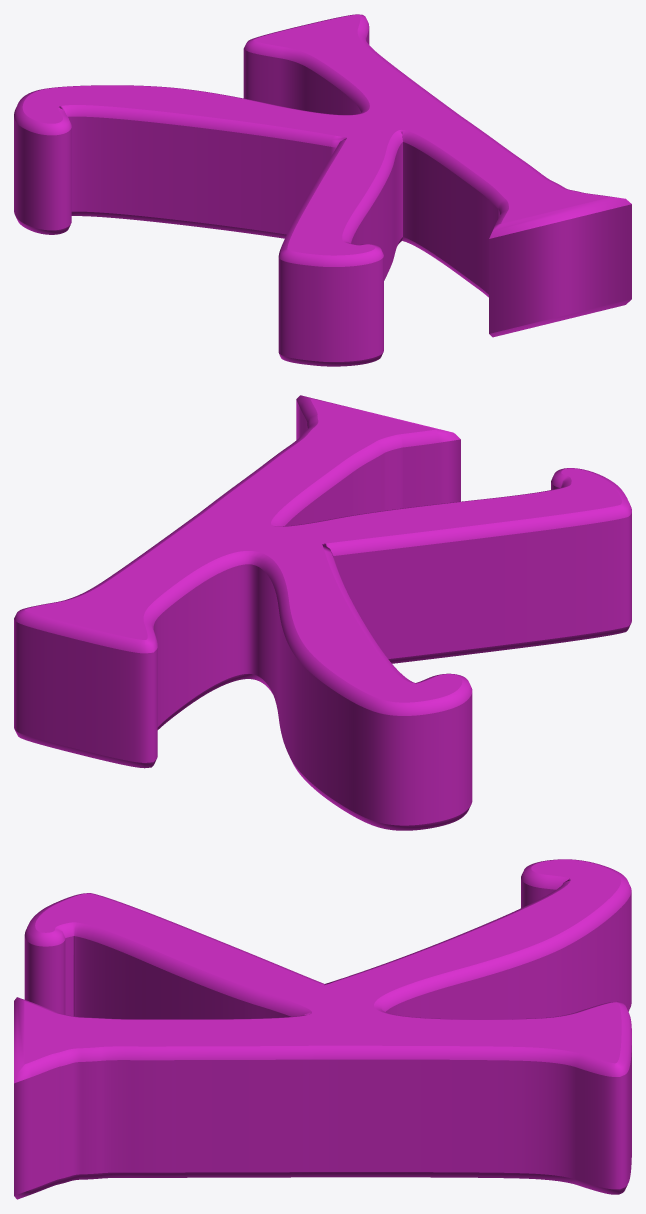
The model's file is Letter_K.fbx.
The picture shows the model from 3 angles, top to bottom: view 1: azimuth 30°, elevation 25°; view 2: azimuth 150°, elevation 25°; view 3: azimuth 270°, elevation 25°; orthographic projection. The views are drawn at different scales.
Visible parts, largest first — view 1: Letter_K; view 2: Letter_K; view 3: Letter_K.
Part boxes in pixels (x1=…): Letter_K: x1=14, y1=14, x2=631, y2=366; Letter_K: x1=14, y1=395, x2=631, y2=830; Letter_K: x1=14, y1=859, x2=631, y2=1199.
Bounding box in the file's own units: 0.501 × 0.14 × 0.5978.
